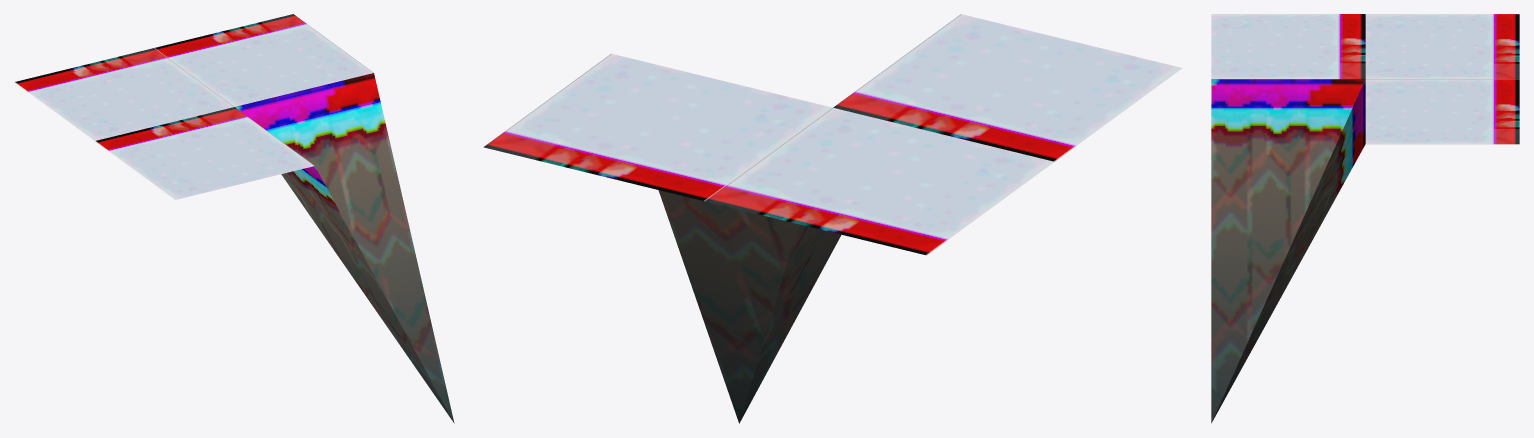
File: arch_winter_wall_cornerIn.FBX
3 views of the same model, side by side, from view 1: azimuth 30°, elevation 25°; view 2: azimuth 150°, elevation 25°; view 3: azimuth 270°, elevation 25° (orthographic). The views are drawn at different scales.
Visible parts, largest first — view 1: arch_winter_wall_cornerIn; view 2: arch_winter_wall_cornerIn; view 3: arch_winter_wall_cornerIn.
Part boxes in pixels (x1=…): arch_winter_wall_cornerIn: x1=14, y1=14, x2=454, y2=423; arch_winter_wall_cornerIn: x1=483, y1=14, x2=1182, y2=423; arch_winter_wall_cornerIn: x1=1211, y1=14, x2=1519, y2=423.
Size of the model in its own units: 4 by 4 by 4.
1 material, 1 textured.
